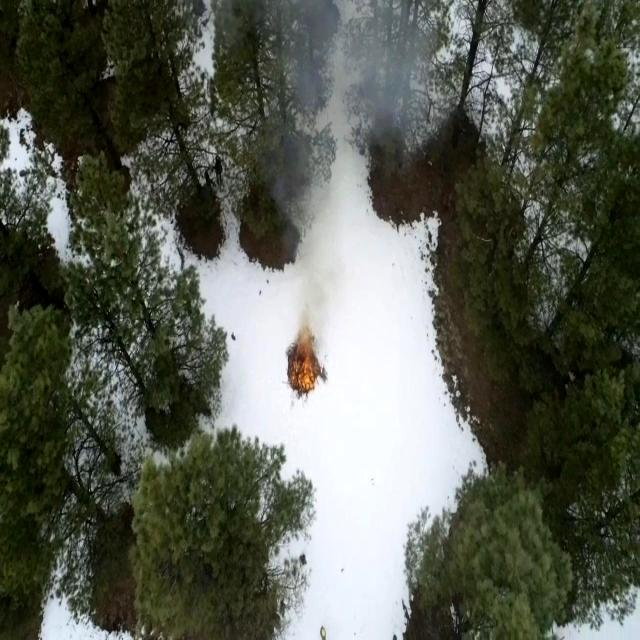Fire: (288, 335, 320, 388)
Smoke: (249, 2, 402, 330)
